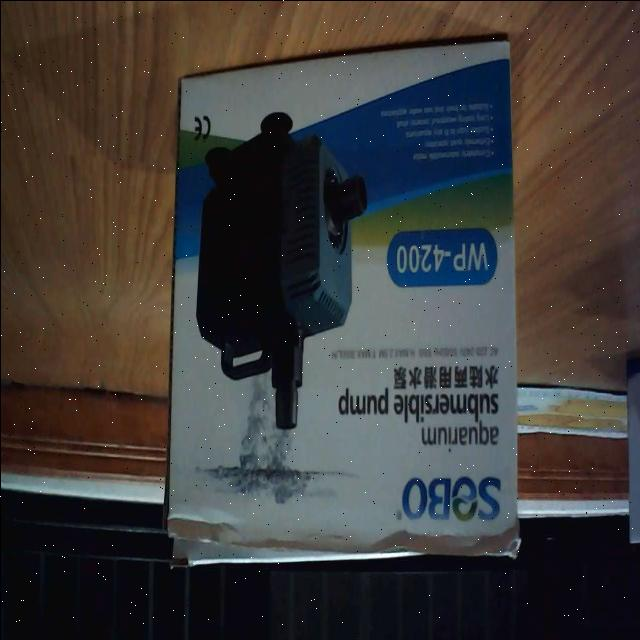SOBO_WP_4200: (150, 35, 534, 592)
